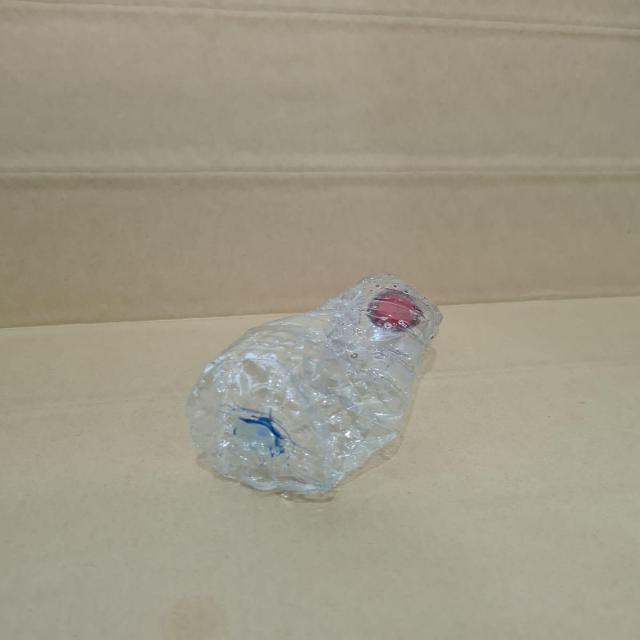bottle: (174, 268, 450, 506)
